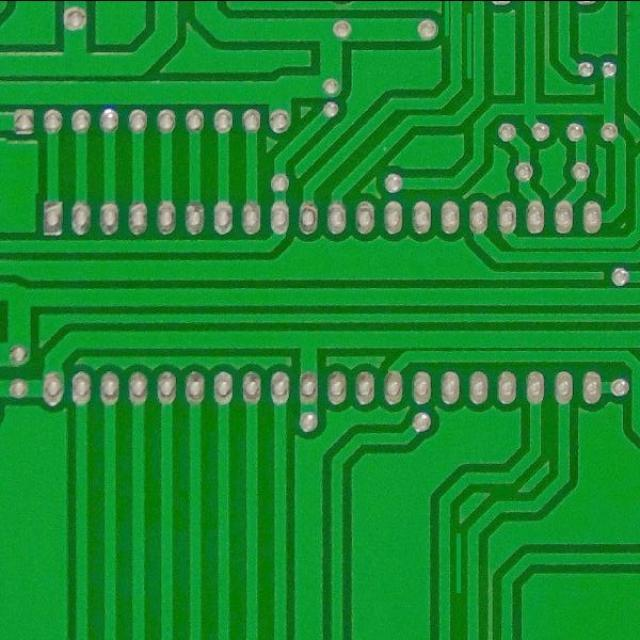Spurious_Cooper: (452, 529, 466, 598), (465, 4, 474, 81), (444, 0, 452, 37)
